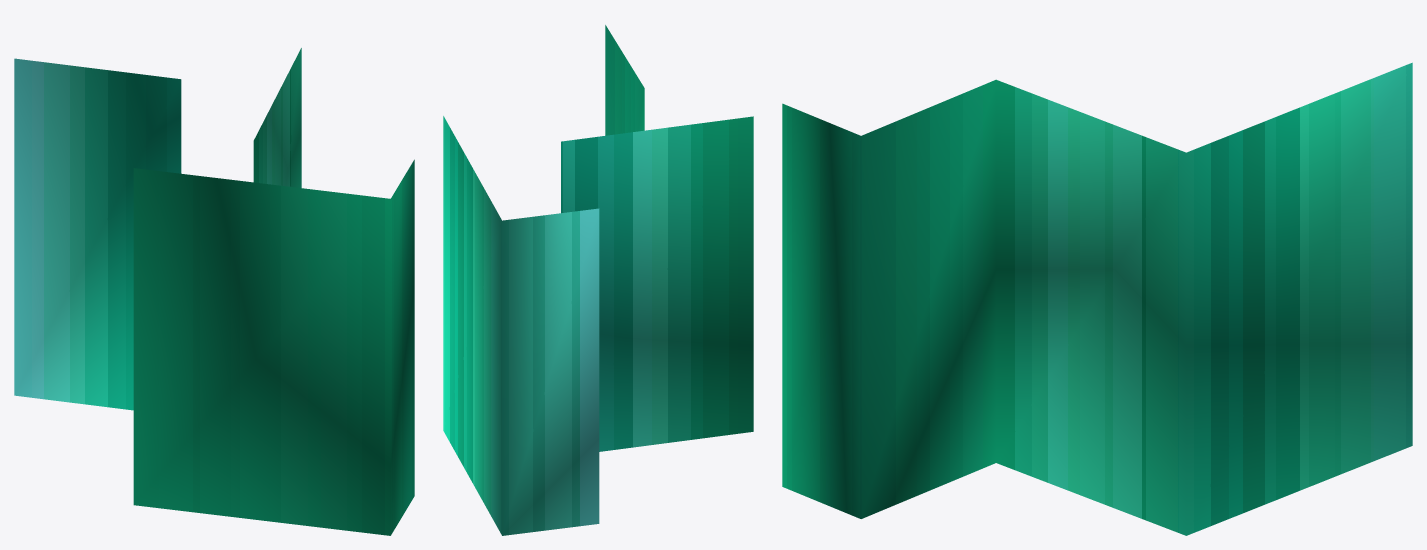
3 renders of one model, left to right at view 1: azimuth 30°, elevation 25°; view 2: azimuth 150°, elevation 25°; view 3: azimuth 270°, elevation 25°, orthographic. The views are drawn at different scales.
Visible parts, largest first — view 1: model_Object40; view 2: model_Object40; view 3: model_Object40.
Part boxes in pixels (bbox=[...]): model_Object40: bbox=[14, 48, 414, 535]; model_Object40: bbox=[443, 25, 753, 535]; model_Object40: bbox=[782, 62, 1412, 535].
Bounding box in the file's own units: 0.5578 × 0.7193 × 1.07.
Materials: 1 (1 with a texture image).
